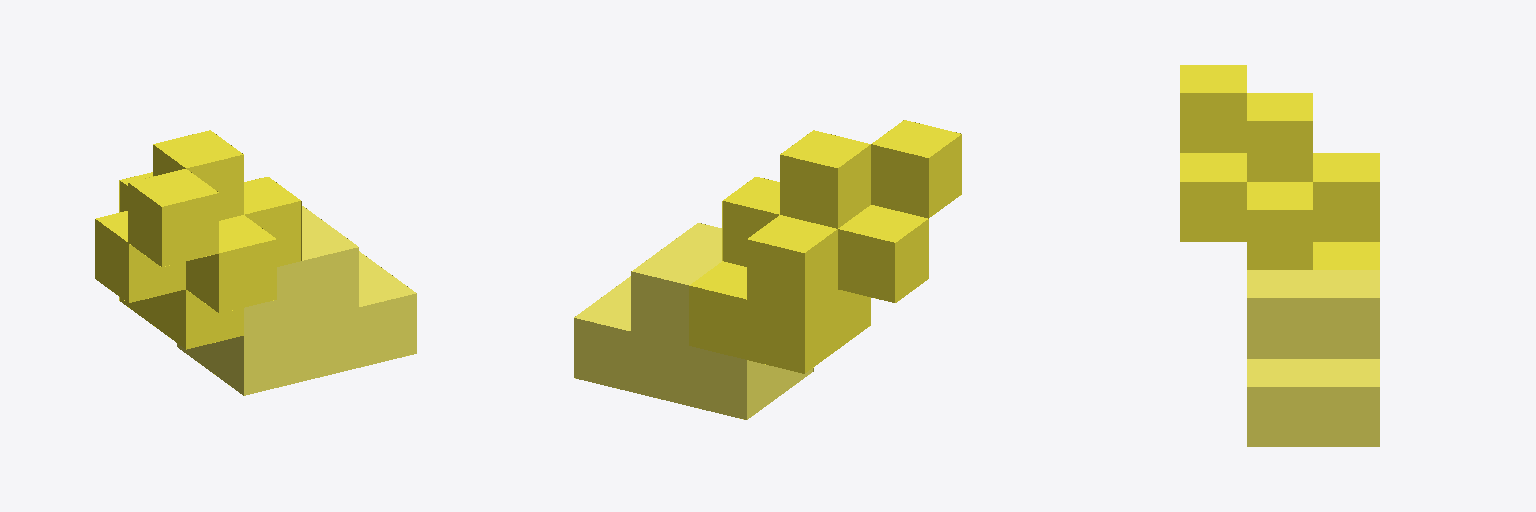
3 views of the same model, side by side, from view 1: azimuth 30°, elevation 25°; view 2: azimuth 150°, elevation 25°; view 3: azimuth 270°, elevation 25° (orthographic).
Visible parts, largest first — view 1: ThunderLordWrist; view 2: ThunderLordWrist; view 3: ThunderLordWrist.
Boxes of the visible parts, x1,y1,x2,y2 form: ThunderLordWrist: [95, 130, 416, 395]; ThunderLordWrist: [574, 120, 961, 419]; ThunderLordWrist: [1180, 65, 1379, 446].
Bounding box in the file's own units: 5 × 4 × 3.
1 materials, 1 textured.